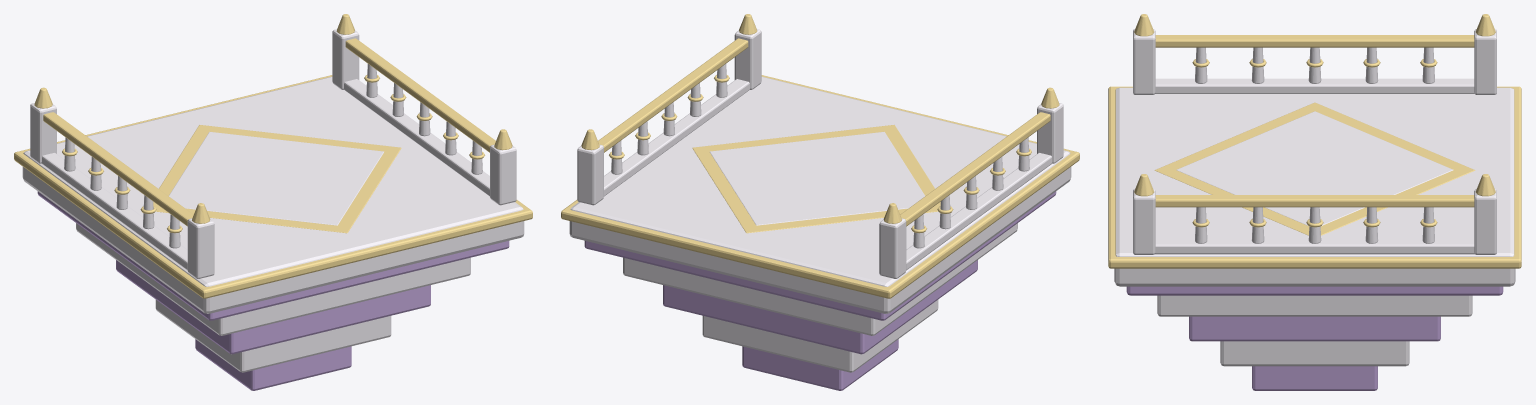
The model's file is marble_stair_arch.glb.
3 renders of one model, left to right at view 1: azimuth 30°, elevation 25°; view 2: azimuth 150°, elevation 25°; view 3: azimuth 270°, elevation 25°, orthographic. The views are drawn at different scales.
Parts seen in each view (by area): view 1: Baluster_-2.16_-0.65, BalusterRing_-2.16_-0.65, InvStep1; view 2: Baluster_-2.16_-0.65, BalusterRing_-2.16_-0.65, InvStep1; view 3: Baluster_-2.16_-0.65, BalusterRing_-2.16_-0.65, InvStep1.
Boxes of the visible parts, box(x1,y1,x2,y2) form: Baluster_-2.16_-0.65: box(22, 29, 524, 372); BalusterRing_-2.16_-0.65: box(14, 14, 532, 298); InvStep1: box(37, 191, 509, 390); Baluster_-2.16_-0.65: box(569, 29, 1071, 372); BalusterRing_-2.16_-0.65: box(561, 14, 1079, 298); InvStep1: box(584, 191, 1056, 390); Baluster_-2.16_-0.65: box(1114, 29, 1515, 366); BalusterRing_-2.16_-0.65: box(1108, 14, 1521, 268); InvStep1: box(1126, 286, 1503, 390).
Size of the model in its own units: 4.72 by 3.41 by 4.72.
